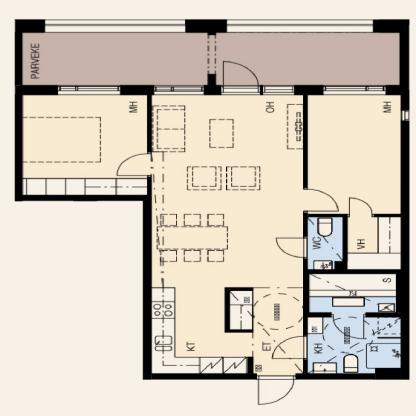door: (253, 372, 300, 408), (218, 62, 262, 94), (269, 334, 311, 364), (115, 150, 157, 179), (330, 312, 373, 340), (273, 234, 310, 262), (303, 189, 338, 216), (344, 196, 378, 222)
window: (326, 83, 388, 96), (54, 85, 120, 97), (155, 85, 206, 98), (263, 85, 293, 97), (400, 109, 411, 125)
zone: (154, 97, 306, 374), (21, 30, 403, 86), (21, 94, 145, 192), (305, 95, 400, 215), (308, 317, 400, 374), (306, 273, 394, 312)
